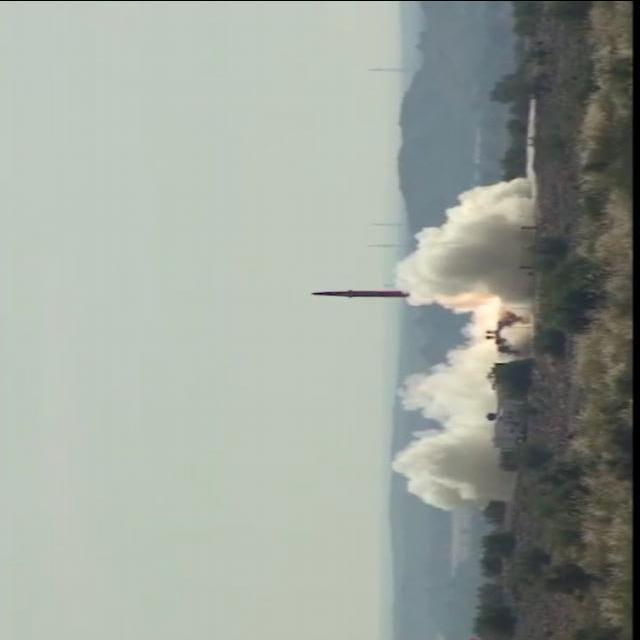missile: (305, 289, 416, 307)
